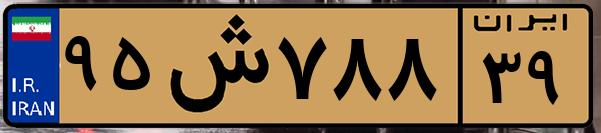3: (475, 38, 525, 113)
5: (110, 28, 158, 98)
7: (270, 28, 330, 110)
8: (385, 28, 445, 110), (330, 28, 385, 110)
9: (57, 26, 110, 100), (525, 38, 570, 115)
ش: (158, 12, 270, 120)
